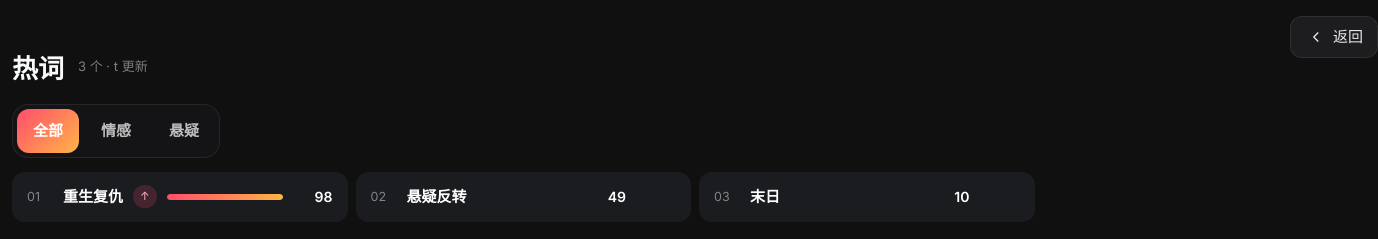
it: 热词页：真实点击 › 分类切换后只显示该类，序号与热度条按当前列表重排
The width and height of the screenshot is (1378, 239).
Click the button "悬疑". click: [184, 131]
box: [153,109,215,153]
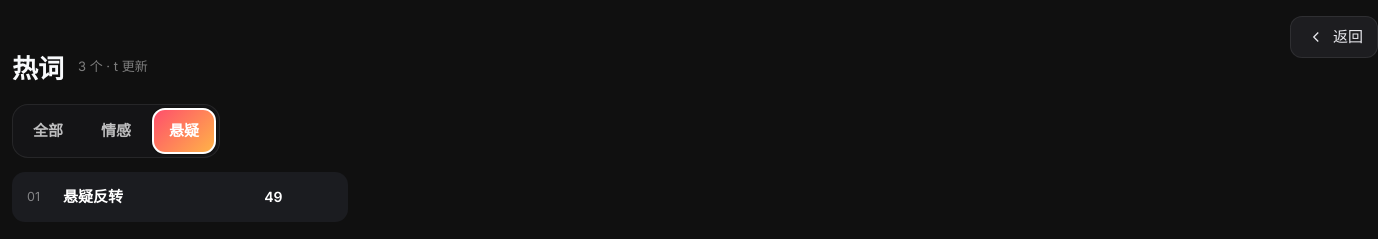
expect the text "01" is shown: met, box [27,189,40,204]
expect the number of buttons with class "hw-row" is 1: met, box [12,172,348,222]
